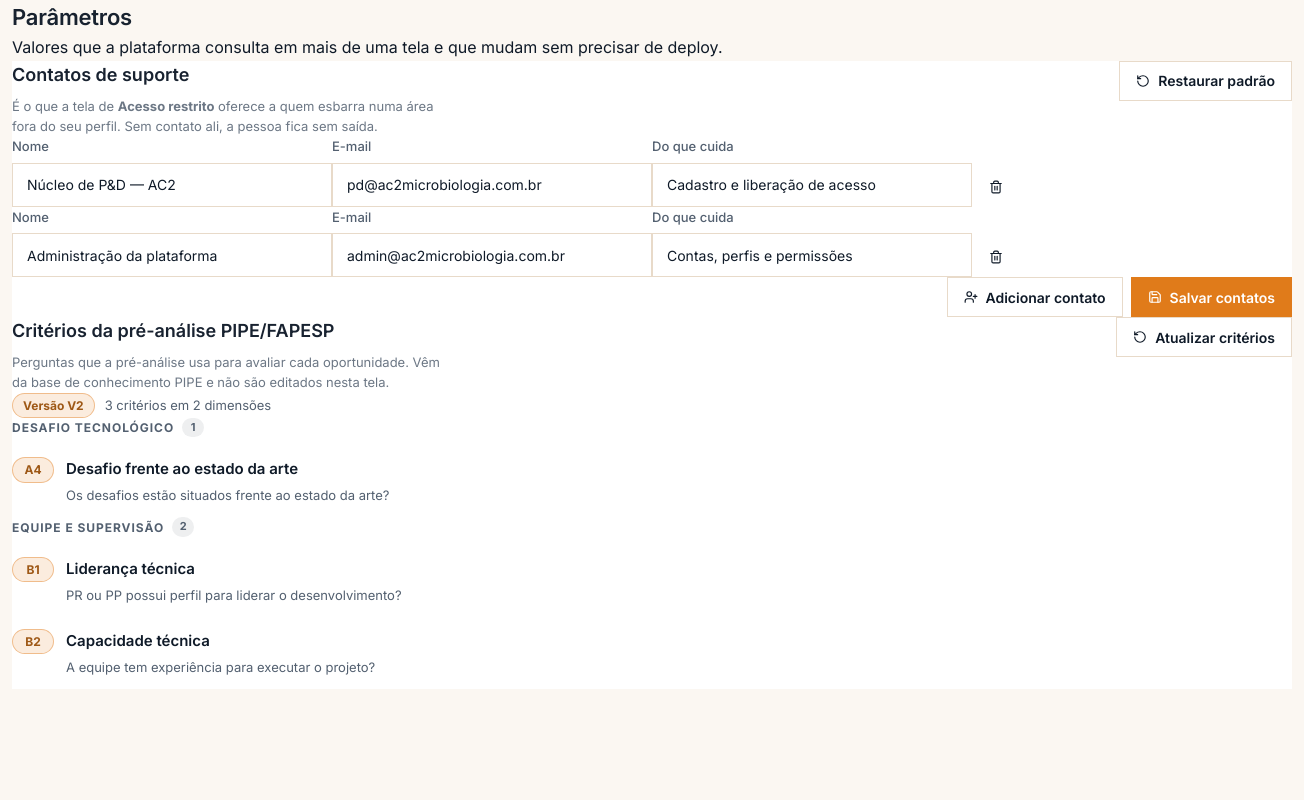
ParametrosSection › adiciona e remove contato
Expected: the 1st field showing "pd@ac2microbiologia.com.br" is shown, 332,163 -> 652,207
Click the button "Adicionar contato".
click(1034, 298)  # box 946,278 -> 1122,318
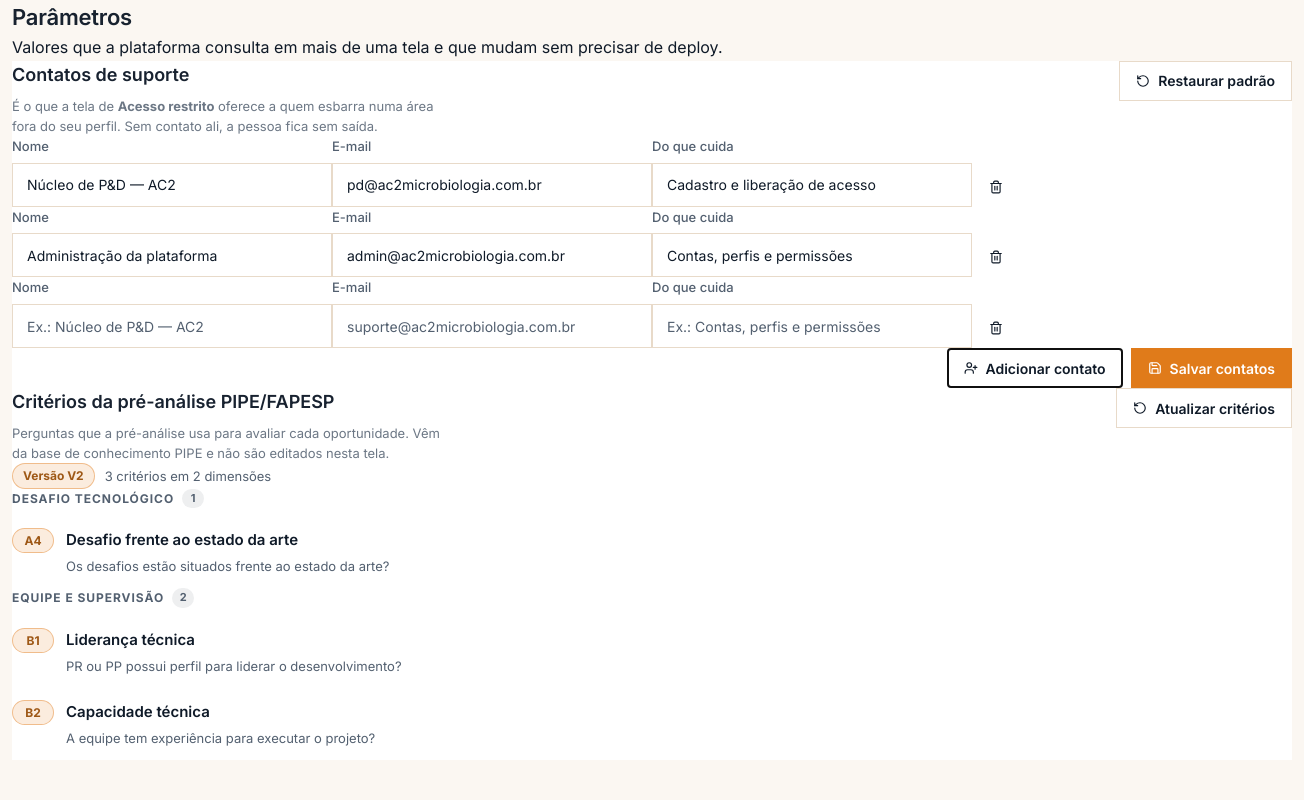
Expected: the number of fields labelled "E-mail" is 3, 332,163 -> 652,207; 332,234 -> 652,278; 332,304 -> 652,348
Click the button named "remover contato administração da plataforma".
click(996, 258)  # box 972,238 -> 1020,278
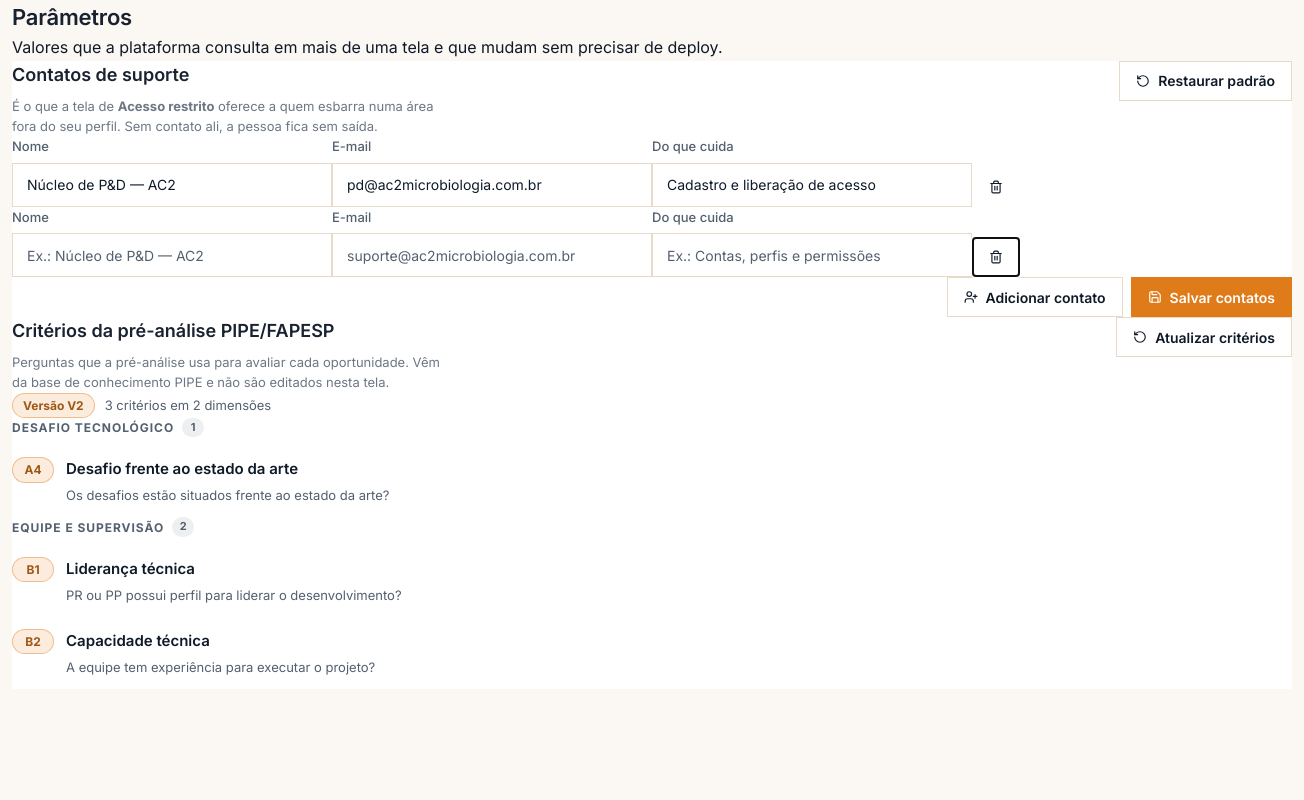
Expected: the number of fields labelled "E-mail" is 2, 332,163 -> 652,207; 332,234 -> 652,278
